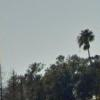Palm tree: (73, 19, 96, 85)
